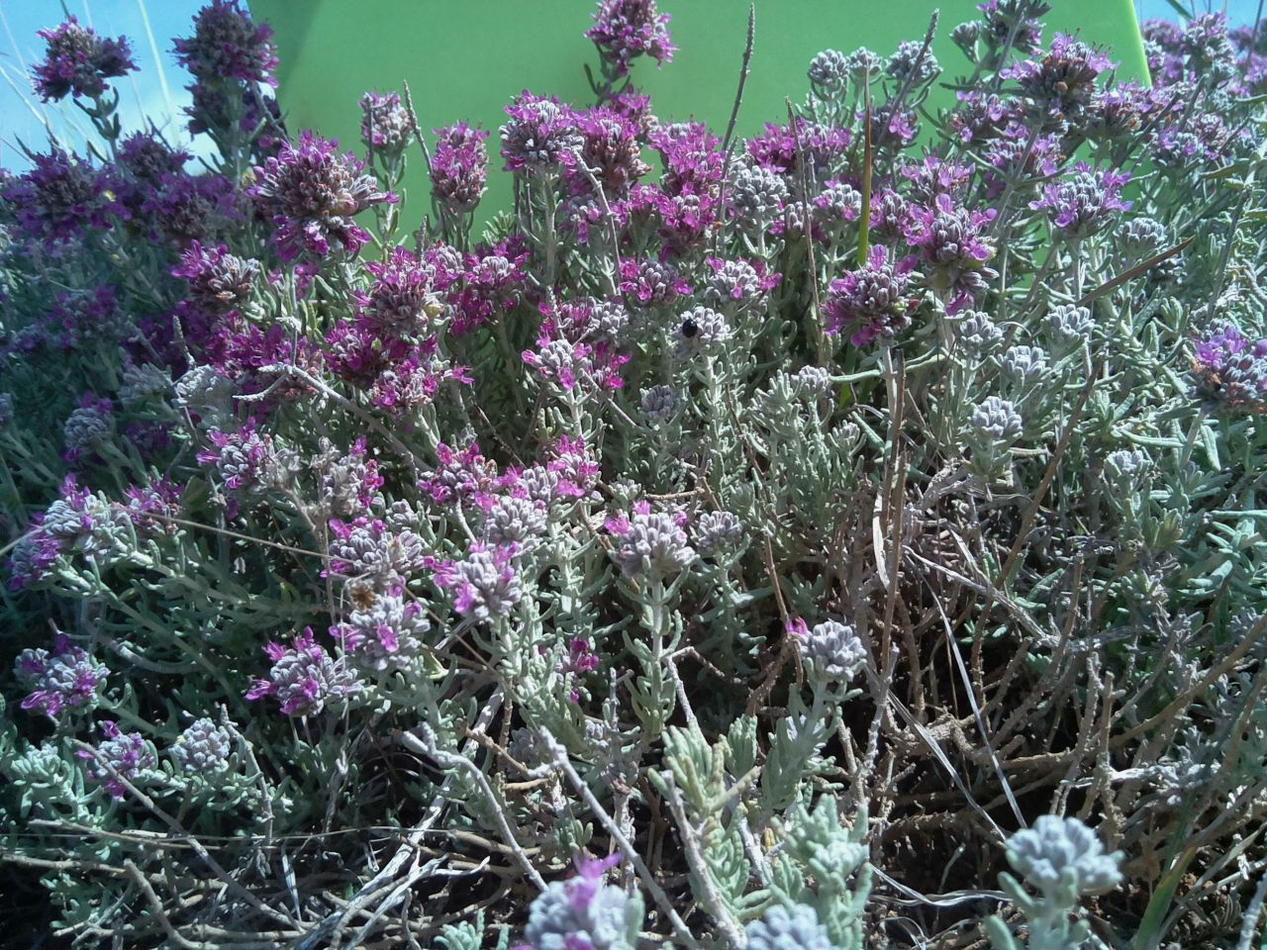Beetle: (679, 313, 703, 342)
